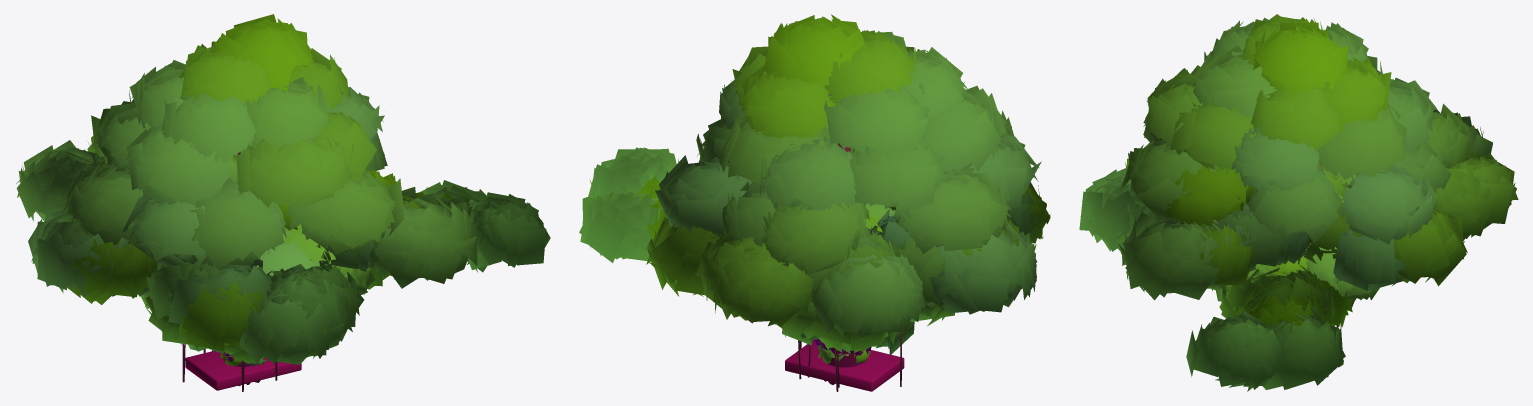
The model's file is flora.glb.
3 renders of one model, left to right at view 1: azimuth 30°, elevation 25°; view 2: azimuth 150°, elevation 25°; view 3: azimuth 270°, elevation 25°, orthographic. The views are drawn at different scales.
Parts seen in each view (by area): view 1: lanshu_leaf, banyan_leaf, taihu; view 2: lanshu_leaf, taihu, banyan_leaf, round_b_leaf, banyan_trunk; view 3: lanshu_leaf, banyan_leaf, umbrella_leaf, kapok_leaf.
Part boxes in pixels (<box>): lanshu_leaf: <box>16,14,550,364</box>; banyan_leaf: <box>138,224,378,345</box>; taihu: <box>185,351,301,390</box>; lanshu_leaf: <box>579,14,1050,337</box>; taihu: <box>785,339,904,391</box>; banyan_leaf: <box>775,203,954,352</box>; round_b_leaf: <box>782,321,914,355</box>; banyan_trunk: <box>798,332,901,391</box>; lanshu_leaf: <box>1079,14,1518,391</box>; banyan_leaf: <box>1207,187,1379,302</box>; umbrella_leaf: <box>1254,255,1308,276</box>; kapok_leaf: <box>1246,169,1346,210</box>.
Bounding box in the file's own units: 24.75 × 17.75 × 21.27.
